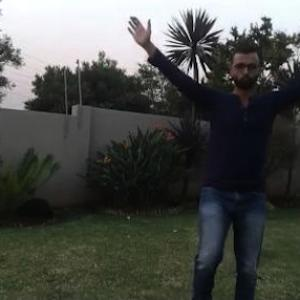takeoff: (130, 25, 299, 297)
